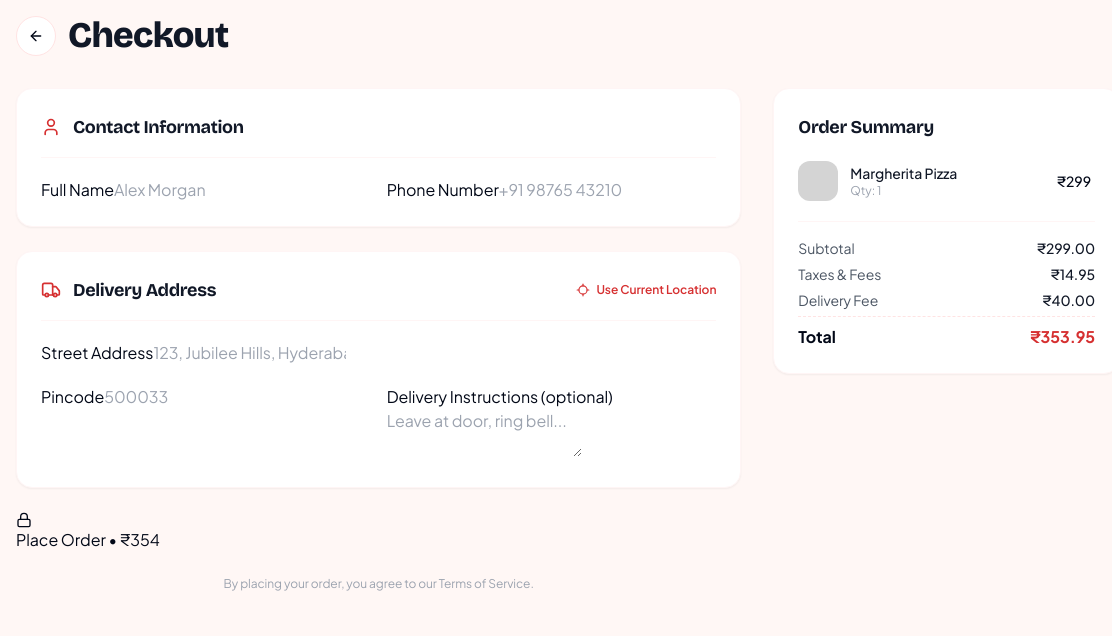
Test case: CheckoutPage › shows error under Phone for an invalid number
Type "12345" into the field labelled "Phone Number".
click(595, 190); type("12345")  # box [499,178,692,202]
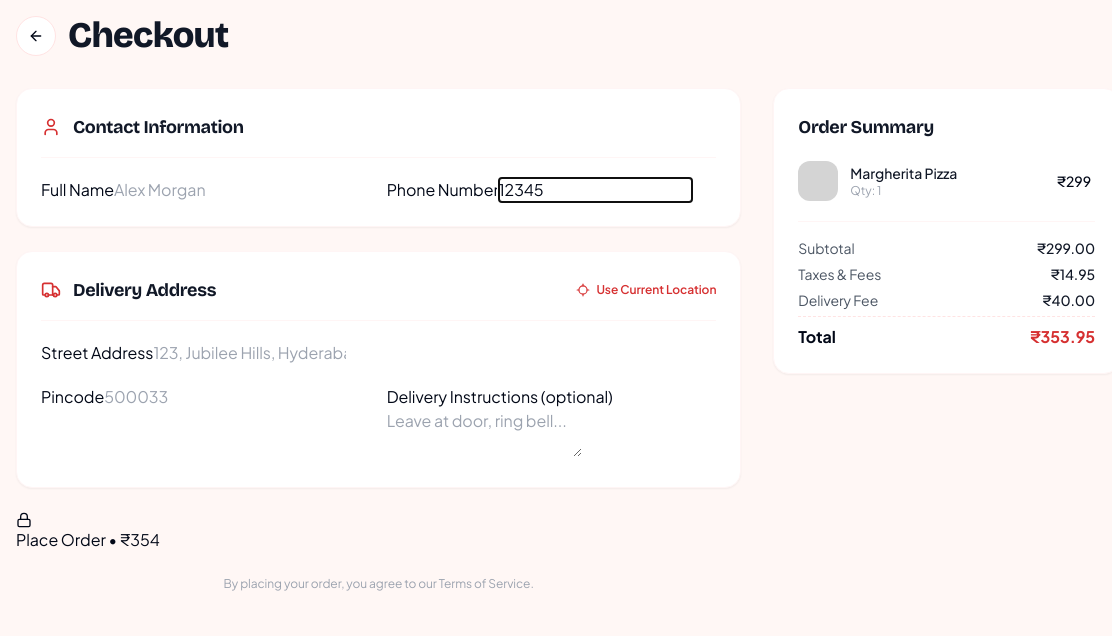
Click the button "Place Order • ₹354".
click(88, 532)  # box [16,512,160,552]
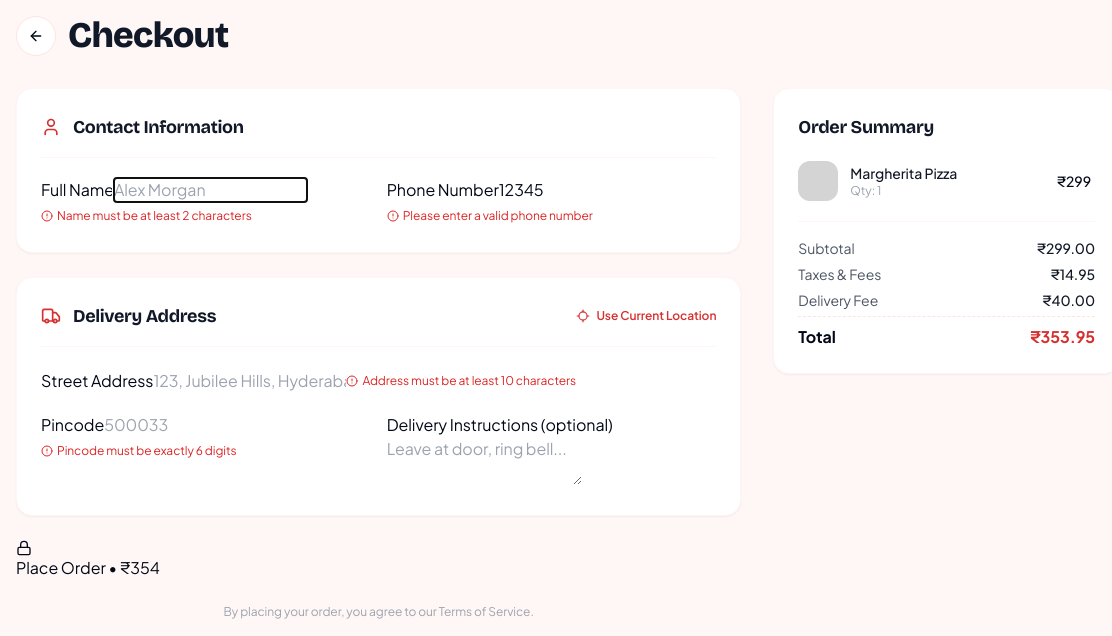
Now the text "Please enter a valid phone number" is shown, box [387,208,593,224]
